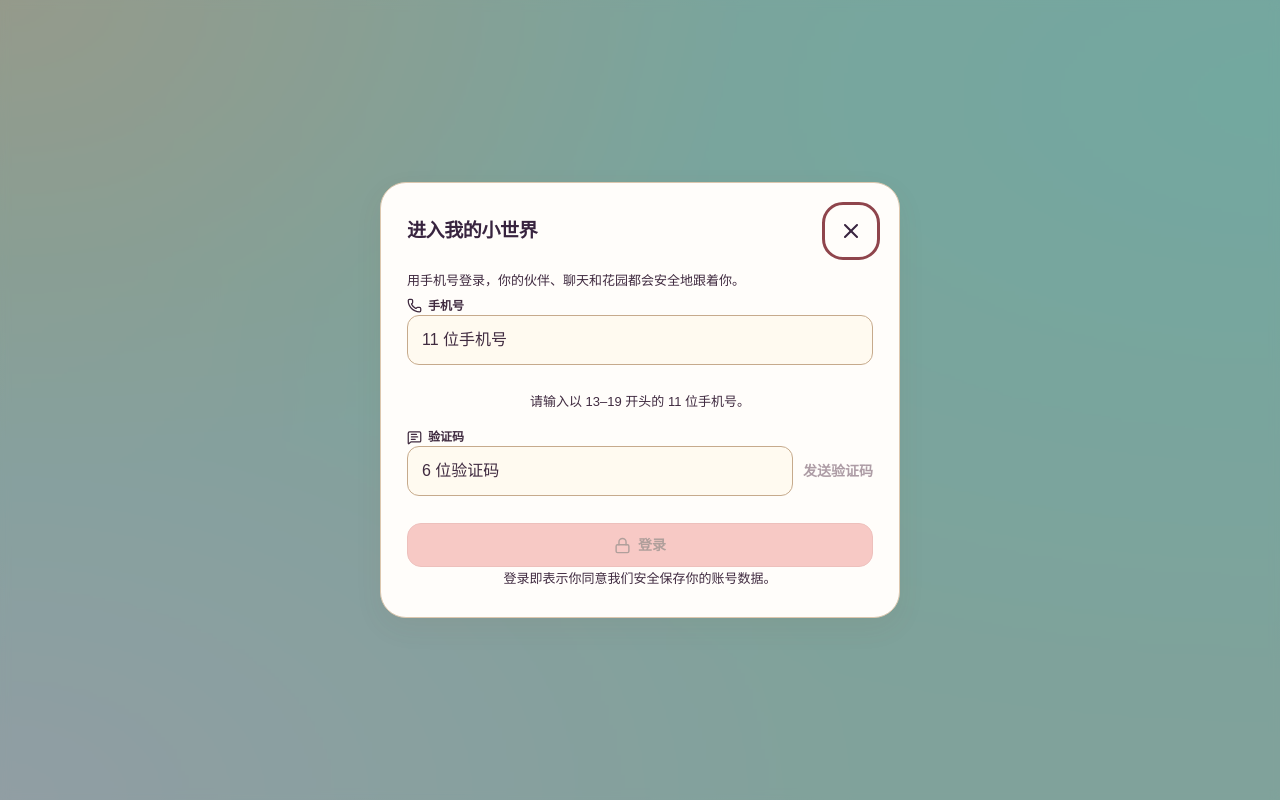
Test case: does not report login success when the browser cannot save the session
The width and height of the screenshot is (1280, 800).
Type "13900000001" into the field with placeholder "11 位手机号".
click(640, 340); type("13900000001")  # box [407, 315, 873, 365]
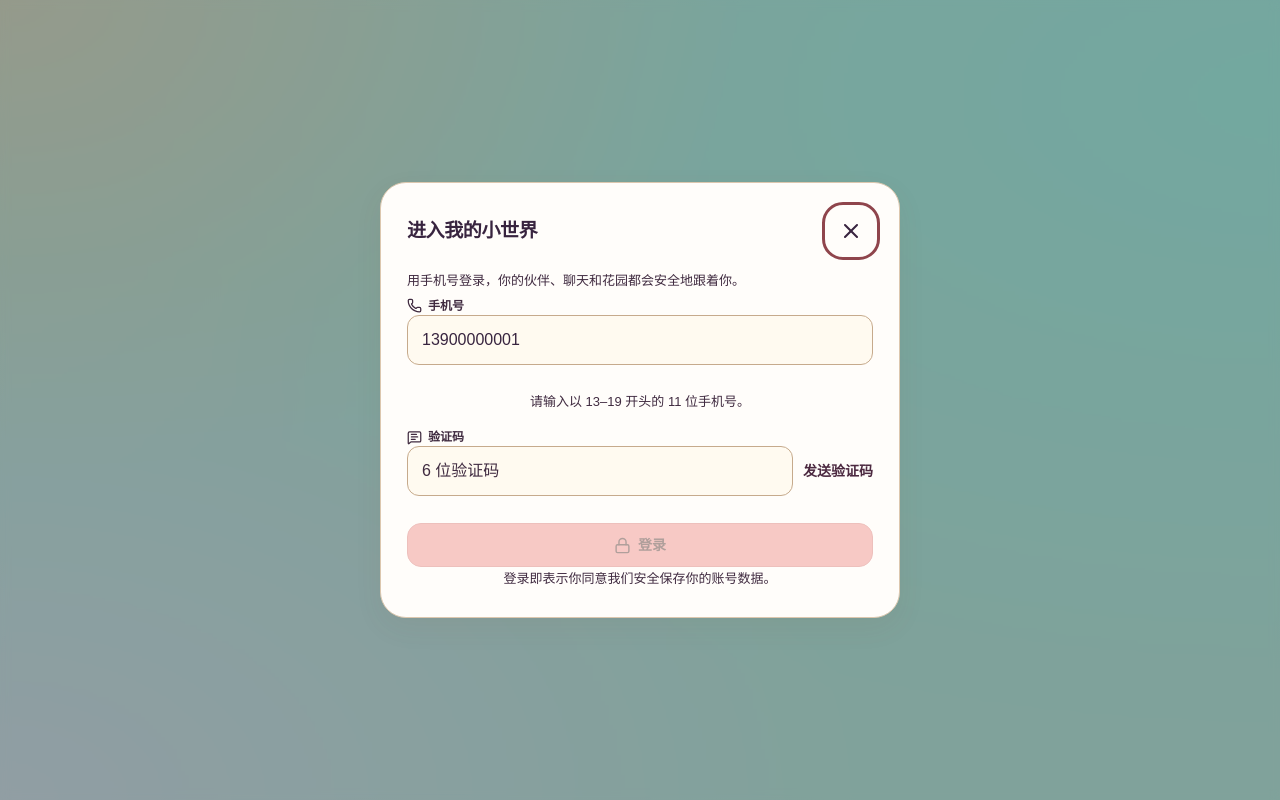
Type "123456" into the field with placeholder "6 位验证码".
click(600, 471); type("123456")  # box [407, 446, 793, 496]
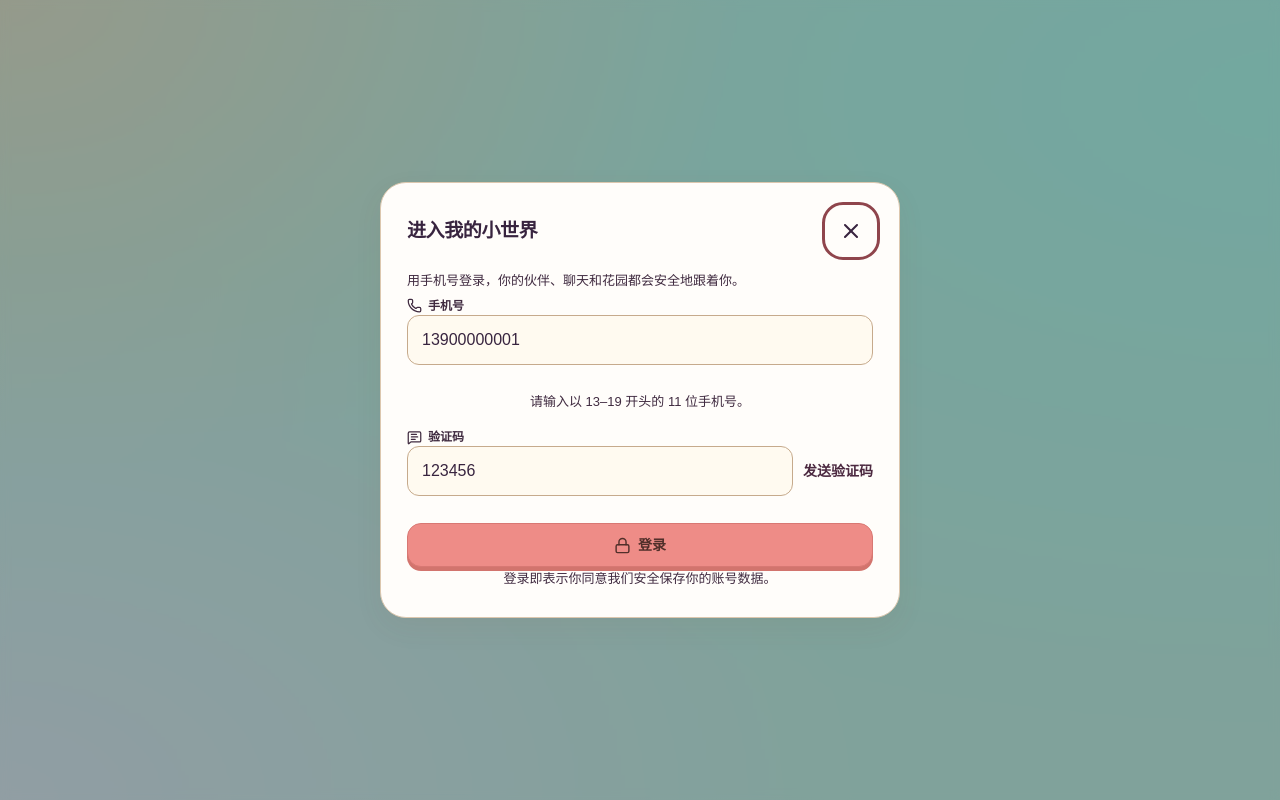
Submit the form with placeholder "6 位验证码", box [407, 297, 873, 567]
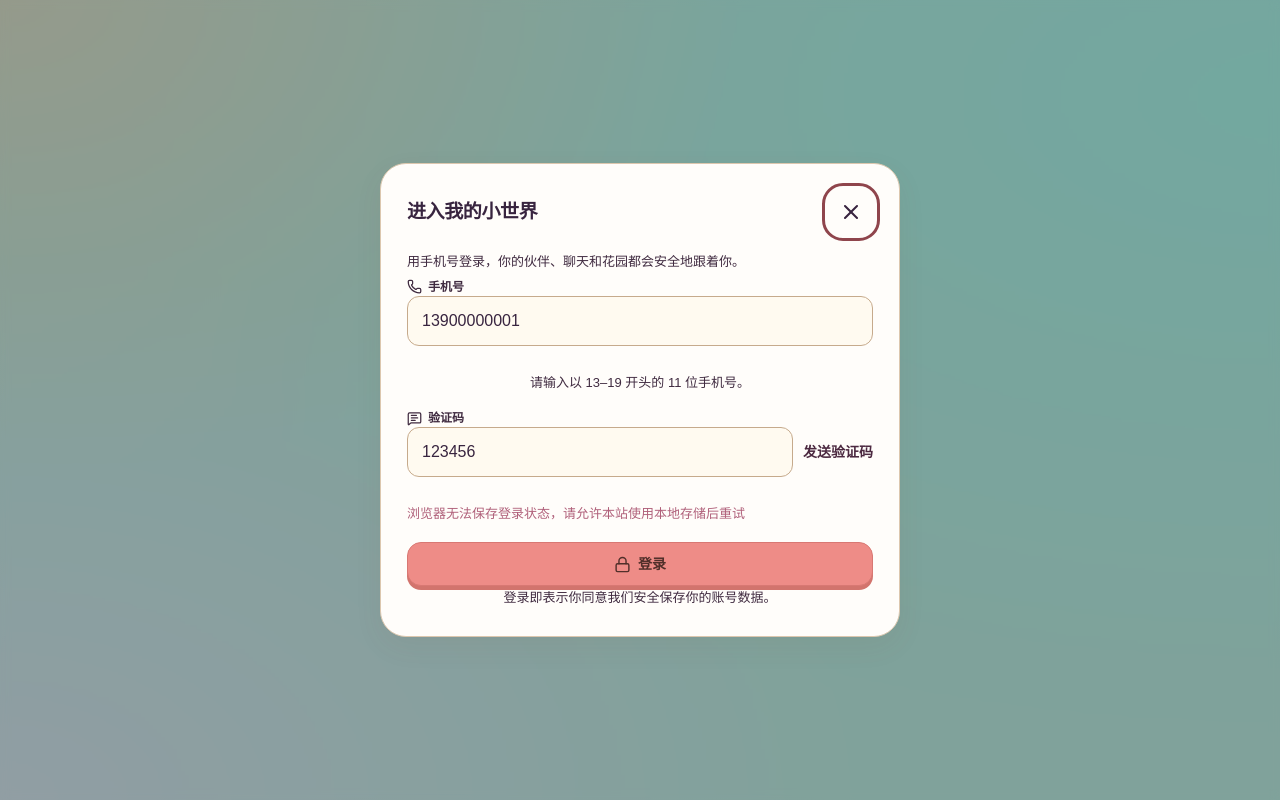
expect the message shows "浏览器无法保存登录状态": met, box [407, 506, 745, 521]
